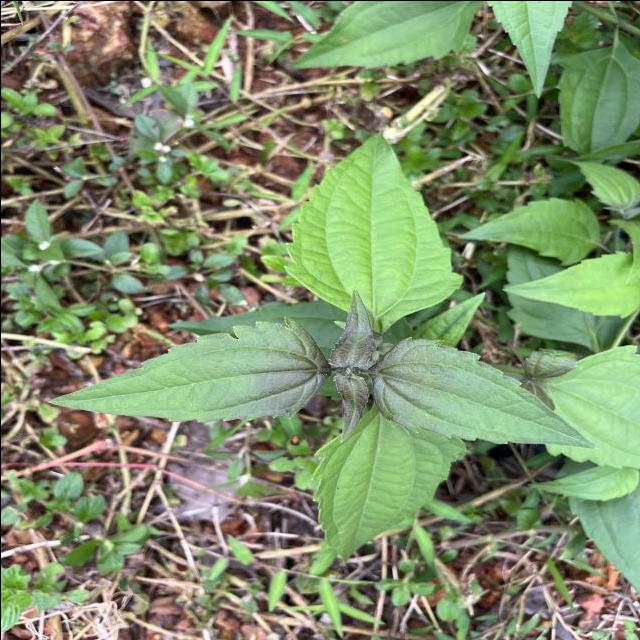Chromolaena odorata: (42, 310, 332, 424), (363, 333, 600, 450)
